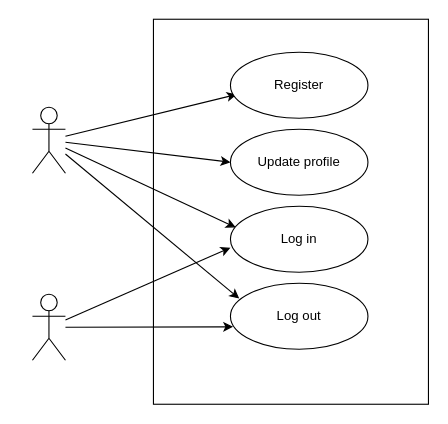
Image size: 448x424. Some labels were removed from this diagram. Each missing label, with the centre of its shape:
Buyer: the point at 48,139
SysAdmin: the point at 48,326
